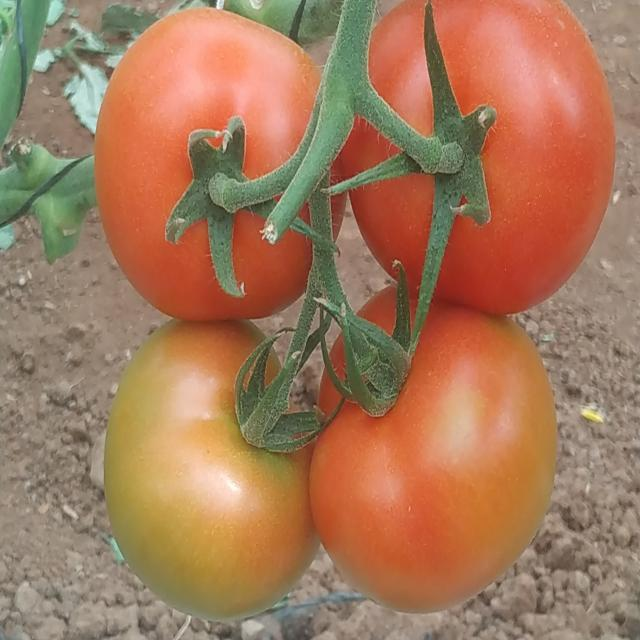Ripe Tomato: (350, 0, 630, 318), (92, 2, 340, 328), (306, 307, 559, 604)
Unripe Tomato: (103, 323, 300, 616)
